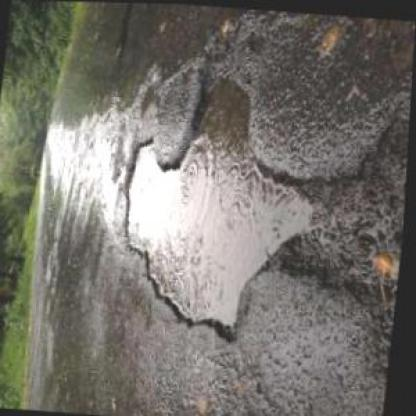pothole: (107, 64, 324, 349)
